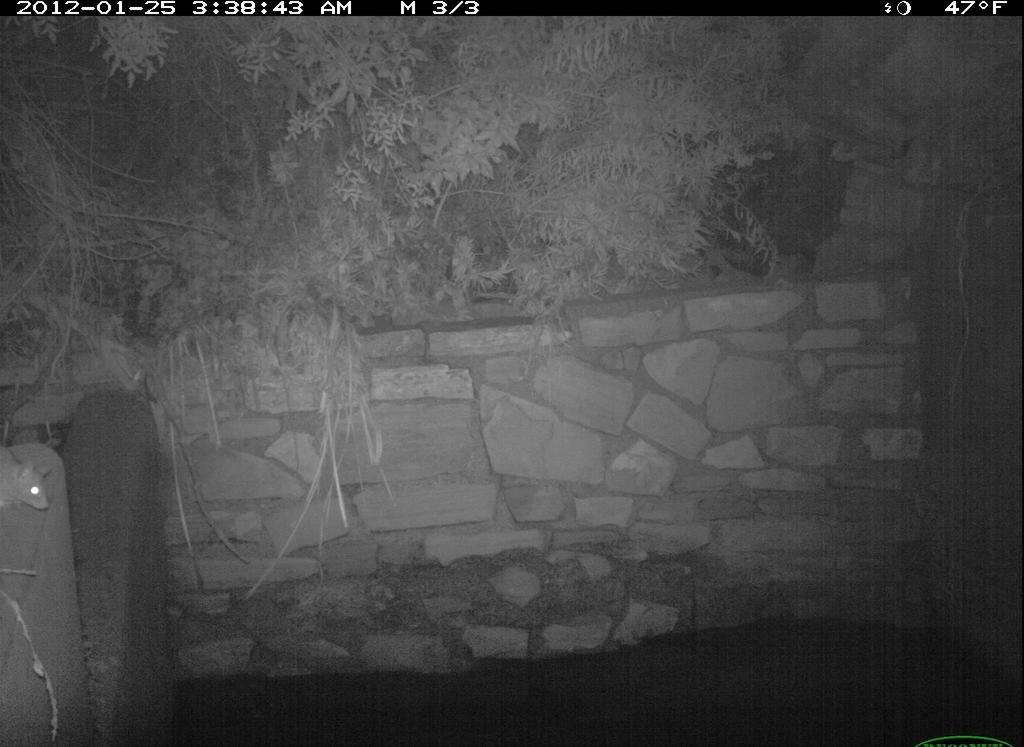rodent: (1, 438, 61, 541)
